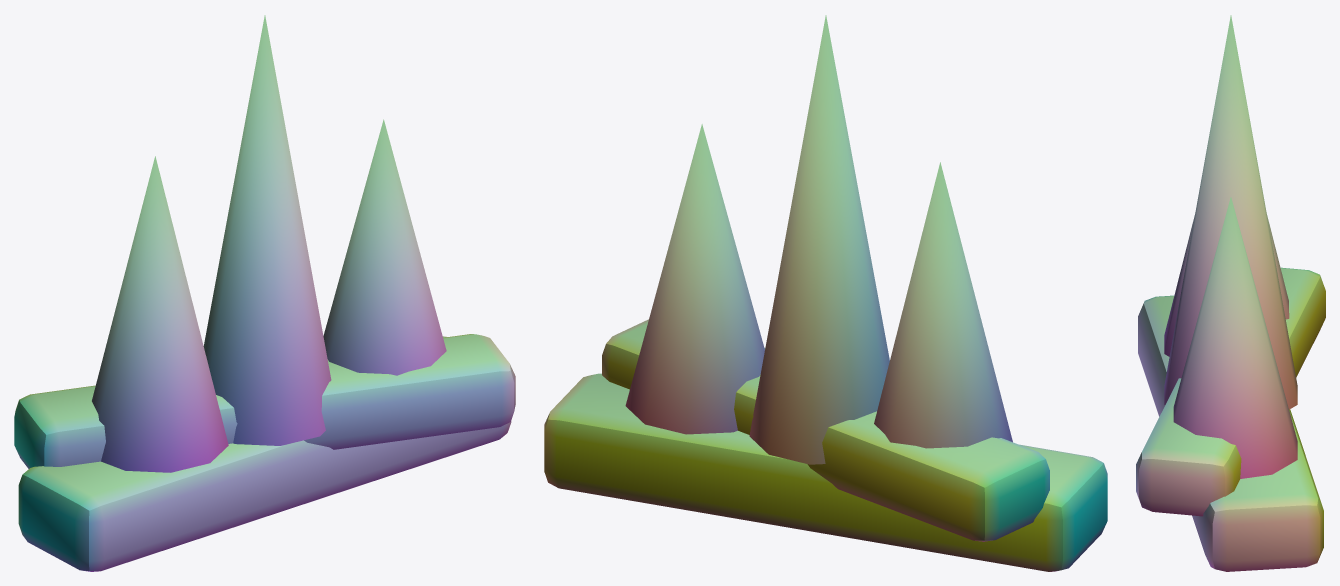
Rendered from fire.glb.
3 renders of one model, left to right at view 1: azimuth 30°, elevation 25°; view 2: azimuth 150°, elevation 25°; view 3: azimuth 270°, elevation 25°, orthographic. The views are drawn at different scales.
Parts seen in each view (by area): view 1: parlour_fire; view 2: parlour_fire; view 3: parlour_fire.
Part boxes in pixels (<box>): parlour_fire: <box>14,15,515,571</box>; parlour_fire: <box>544,15,1107,571</box>; parlour_fire: <box>1136,15,1325,571</box>.
Bounding box in the file's own units: 0.5261 × 0.5 × 0.1893.
